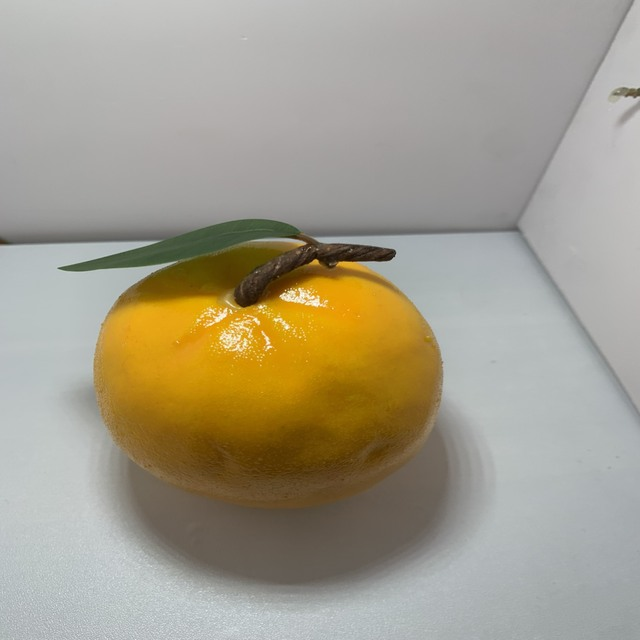Cam vang: (93, 219, 445, 515)
